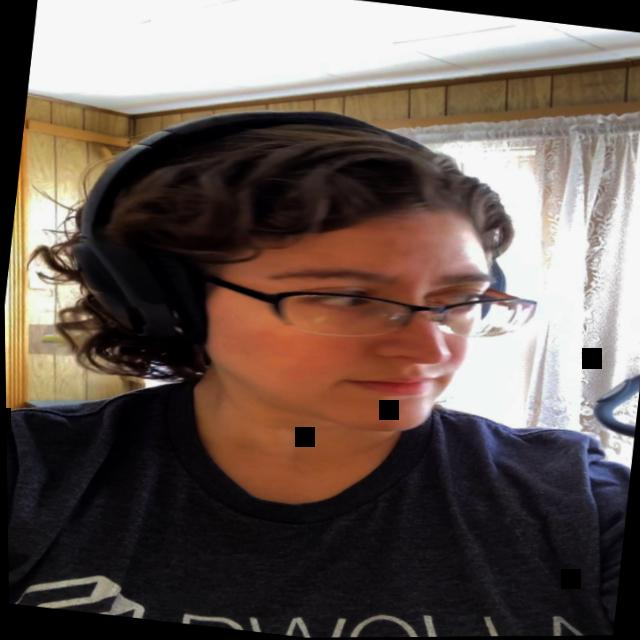NO-Mask: (173, 176, 504, 450)
